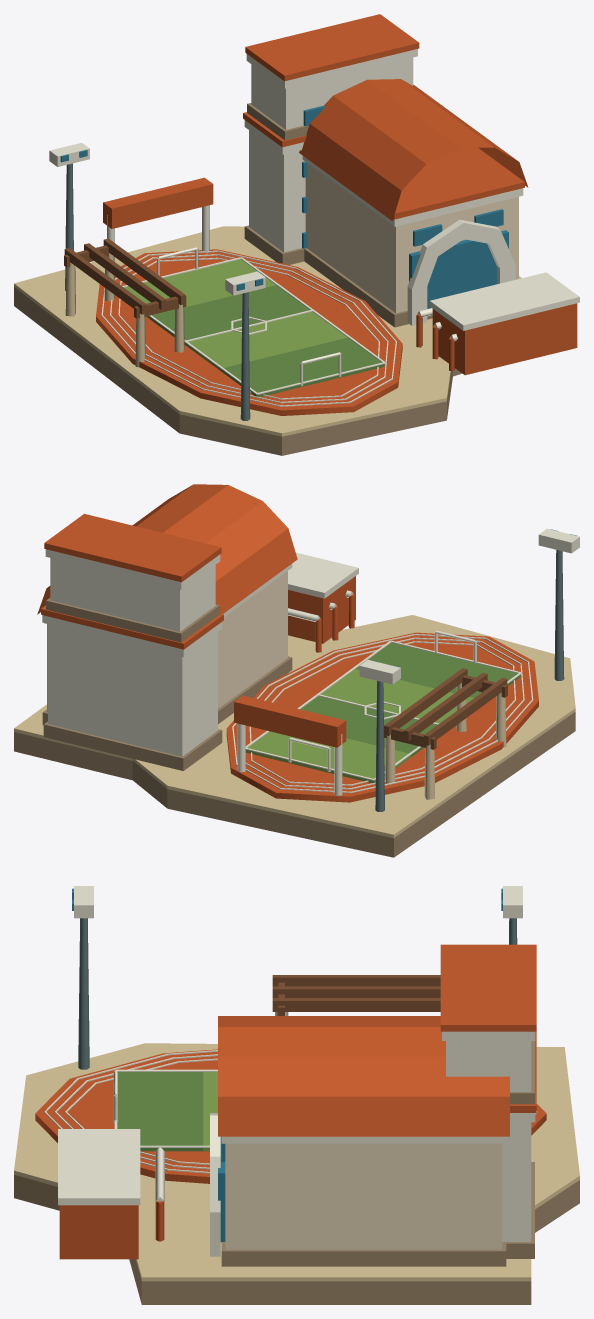
Rendered from training-center-lv4.glb.
3 renders of one model, top to bottom at view 1: azimuth 30°, elevation 25°; view 2: azimuth 150°, elevation 25°; view 3: azimuth 270°, elevation 25°, orthographic. The views are drawn at different scales.
Parts seen in each view (by area): view 1: running_track_orange, foundation_sand, gym_barrel_roof_orange, training_hall_cream, foundation_stoneDark, pitch_grass, pitch_grassLight, performance_upper_floor_roof_orange, equipment_platform_orange, performance_block_white, performance_upper_floor_white, training_hall_roof_orange (+17 smaller); view 2: performance_block_white, foundation_sand, running_track_orange, foundation_stoneDark, gym_barrel_roof_orange, performance_upper_floor_white, performance_upper_floor_roof_orange, training_hall_cream, pitch_grassLight, pitch_grass, coaching_shelter_wood, running_lanes_white (+14 smaller); view 3: gym_barrel_roof_orange, training_hall_cream, foundation_sand, foundation_stoneDark, performance_upper_floor_roof_orange, running_track_orange, equipment_platform_white, coaching_shelter_wood, pitch_grass, training_hall_stoneDark, equipment_platform_orange, performance_upper_floor_white (+10 smaller).
Part boxes in pixels (x1=…): running_track_orange: x1=96, y1=249, x2=402, y2=415; foundation_sand: x1=14, y1=226, x2=521, y2=436; gym_barrel_roof_orange: x1=299, y1=79, x2=528, y2=220; training_hall_cream: x1=305, y1=163, x2=518, y2=313; foundation_stoneDark: x1=14, y1=287, x2=461, y2=455; pitch_grass: x1=149, y1=285, x2=384, y2=396; pitch_grassLight: x1=124, y1=259, x2=347, y2=370; performance_upper_floor_roof_orange: x1=245, y1=14, x2=419, y2=81; equipment_platform_orange: x1=432, y1=303, x2=577, y2=375; performance_block_white: x1=244, y1=120, x2=305, y2=252; performance_upper_floor_white: x1=246, y1=49, x2=417, y2=129; training_hall_roof_orange: x1=393, y1=148, x2=524, y2=219; performance_block_white: x1=43, y1=615, x2=222, y2=756; foundation_sand: x1=14, y1=615, x2=575, y2=837; running_track_orange: x1=226, y1=632, x2=538, y2=802; foundation_stoneDark: x1=14, y1=712, x2=575, y2=857; gym_barrel_roof_orange: x1=37, y1=484, x2=297, y2=614; performance_upper_floor_white: x1=45, y1=549, x2=220, y2=631; performance_upper_floor_roof_orange: x1=44, y1=513, x2=221, y2=582; training_hall_cream: x1=47, y1=571, x2=287, y2=711; pitch_grassLight: x1=245, y1=669, x2=473, y2=783; pitch_grass: x1=300, y1=642, x2=520, y2=756; coaching_shelter_wood: x1=384, y1=668, x2=507, y2=749; running_lanes_white: x1=232, y1=634, x2=533, y2=793; gym_barrel_roof_orange: x1=218, y1=1016, x2=509, y2=1136; training_hall_cream: x1=225, y1=1143, x2=502, y2=1249; foundation_sand: x1=14, y1=1043, x2=579, y2=1281; foundation_stoneDark: x1=14, y1=1175, x2=579, y2=1304; performance_upper_floor_roof_orange: x1=440, y1=944, x2=536, y2=1031; running_track_orange: x1=35, y1=1049, x2=546, y2=1183; equipment_platform_white: x1=58, y1=1129, x2=140, y2=1205; coaching_shelter_wood: x1=272, y1=975, x2=440, y2=1015; pitch_grass: x1=117, y1=1072, x2=203, y2=1151; training_hall_stoneDark: x1=221, y1=1242, x2=506, y2=1266; equipment_platform_orange: x1=59, y1=1205, x2=138, y2=1259; performance_upper_floor_white: x1=442, y1=1031, x2=535, y2=1091.
Size of the model in its own units: 0.9785 by 0.5089 by 1.
